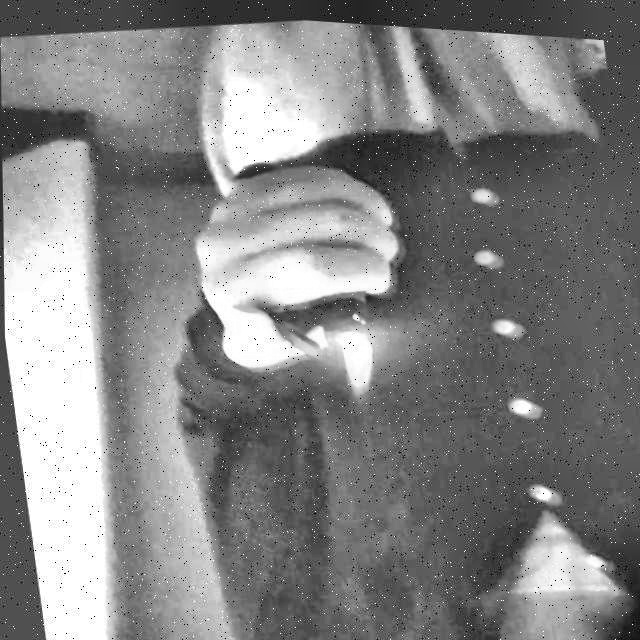Fire: (338, 323, 379, 393)
